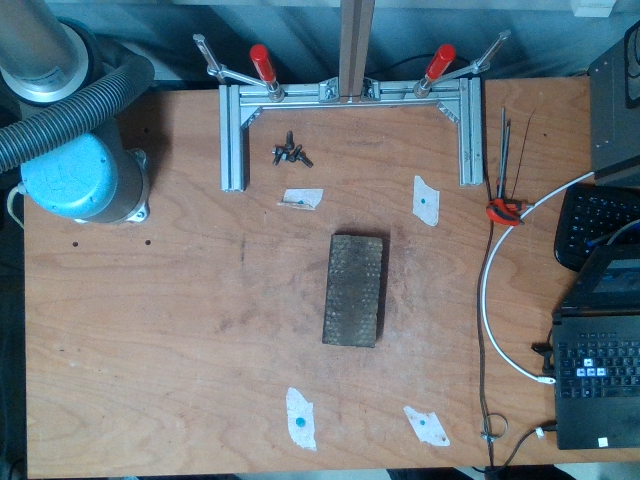brick: (322, 231, 387, 350)
